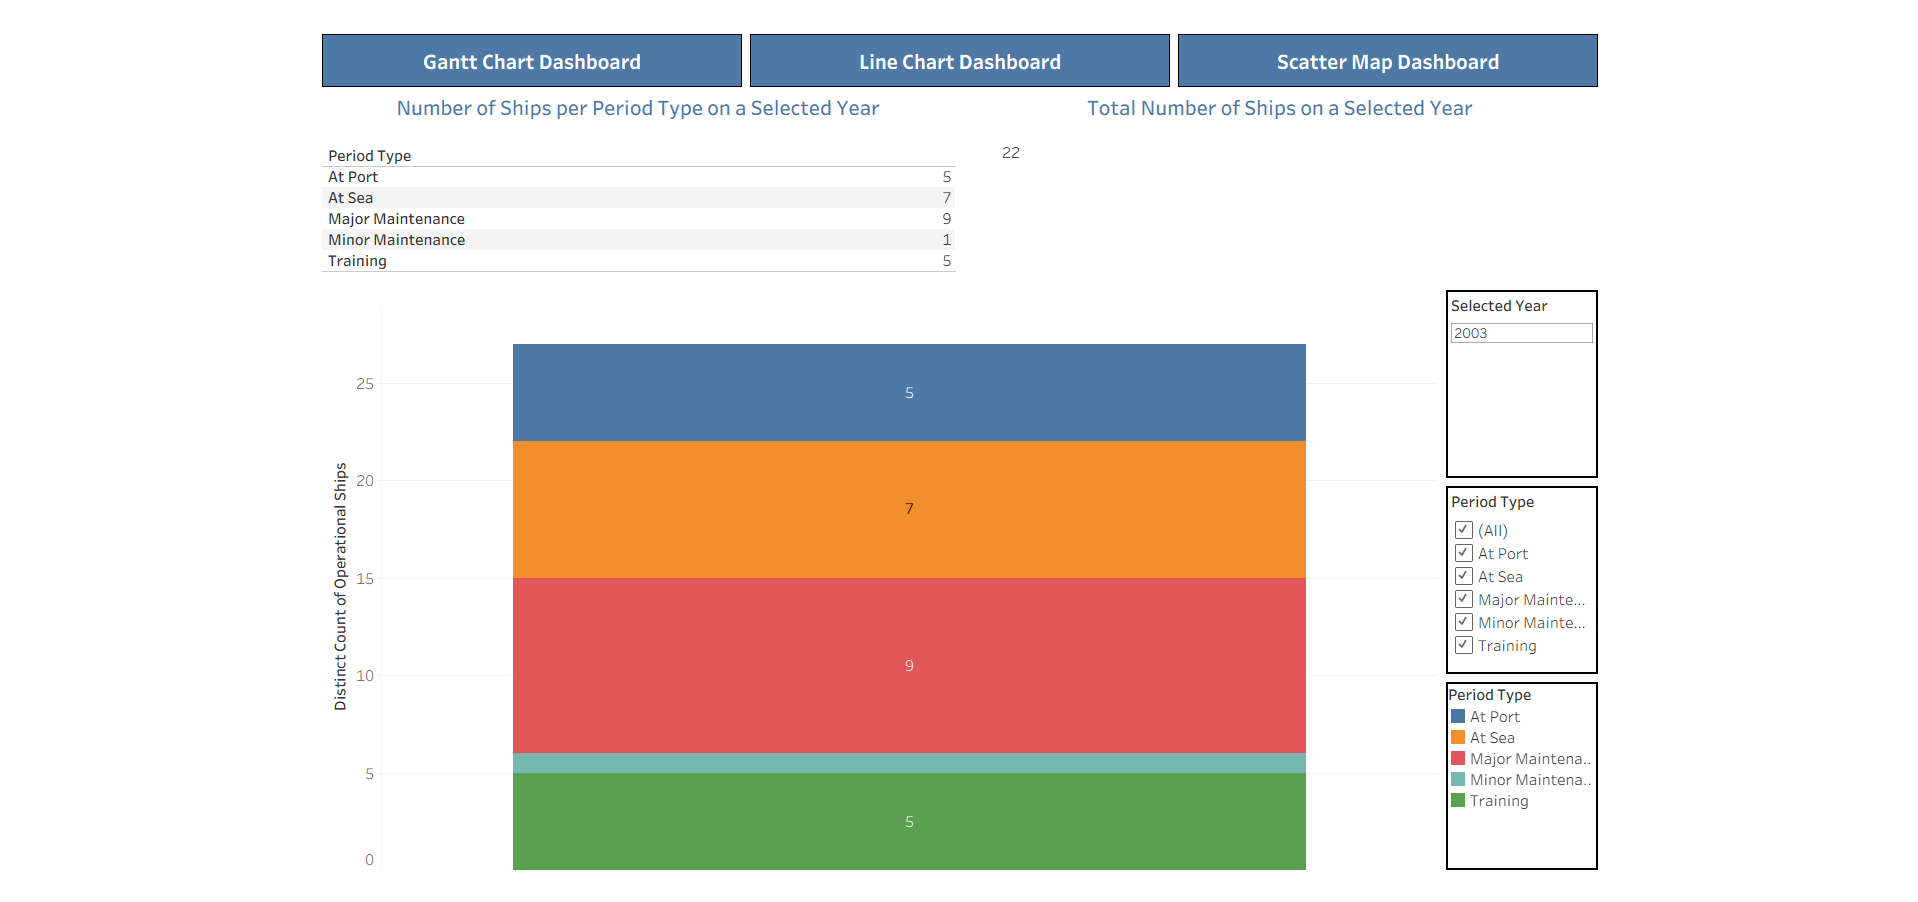

The page's visual inventory and layout, read from the dashboard file:
{"tool":"tableau","page":{"name":"Bar Chart Dashboard","canvas":[1000,1000],"units":"permille","ordinal":0},"visuals":[{"type":"dashboard-object","box":[6.2,9.4,329.2,114.1]},{"type":"dashboard-object","box":[335.4,9.4,329.2,114.1]},{"type":"dashboard-object","box":[664.6,9.4,329.2,114.1]},{"type":"worksheet","title":"Bar Graph","mark":"Bar","rows":["Calculation_3010093412022706183"],"box":[6.2,123.5,864.6,683.5]},{"type":"parameter","param":"[Parameters].[Parameter 2]","box":[870.8,123.5,123.1,228.2]},{"type":"filter","title":"Bar Graph","param":"[federated.1dbesl90ko1xc2151ipvv121hvmx].[none:Period Type:nk]","box":[870.8,351.8,123.1,228.2]},{"type":"legend","title":"Bar Graph","param":"[federated.1dbesl90ko1xc2151ipvv121hvmx].[none:Period Type:nk]","box":[870.8,580,123.1,227.1]},{"type":"worksheet","title":"TotalActiveShips","mark":"Text","rows":["Period Type"],"box":[6.2,807.1,987.7,183.5]}]}

Visuals, with their boxes on the dashboard's canvas, which has no fixed pixel size, in thousandths of its width and height (x1, y1, x2, y2). These are canvas units, not pixel positions in the 1918x902 screenshot, which may show the page scaled, cropped or inside an application window:
dashboard-object: left=6, top=9, right=335, bottom=124
dashboard-object: left=335, top=9, right=665, bottom=124
dashboard-object: left=665, top=9, right=994, bottom=124
"Bar Graph" worksheet (Bar marks): left=6, top=124, right=871, bottom=807
parameter: left=871, top=124, right=994, bottom=352
"Bar Graph" filter: left=871, top=352, right=994, bottom=580
"Bar Graph" legend: left=871, top=580, right=994, bottom=807
"TotalActiveShips" worksheet (Text marks): left=6, top=807, right=994, bottom=991
